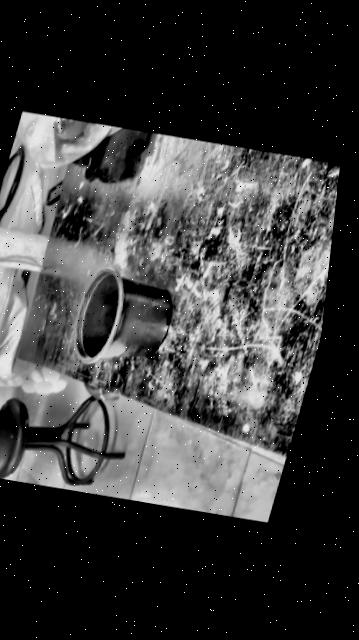pot: (63, 264, 182, 372)
